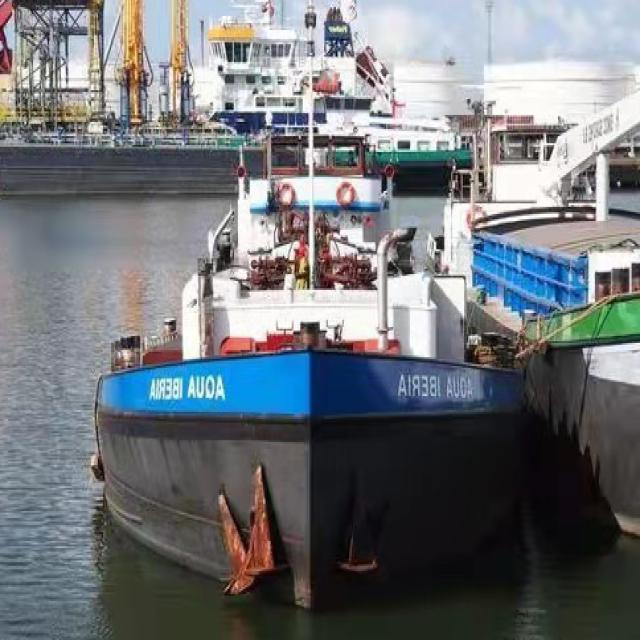fishing boat: (75, 68, 547, 592)
